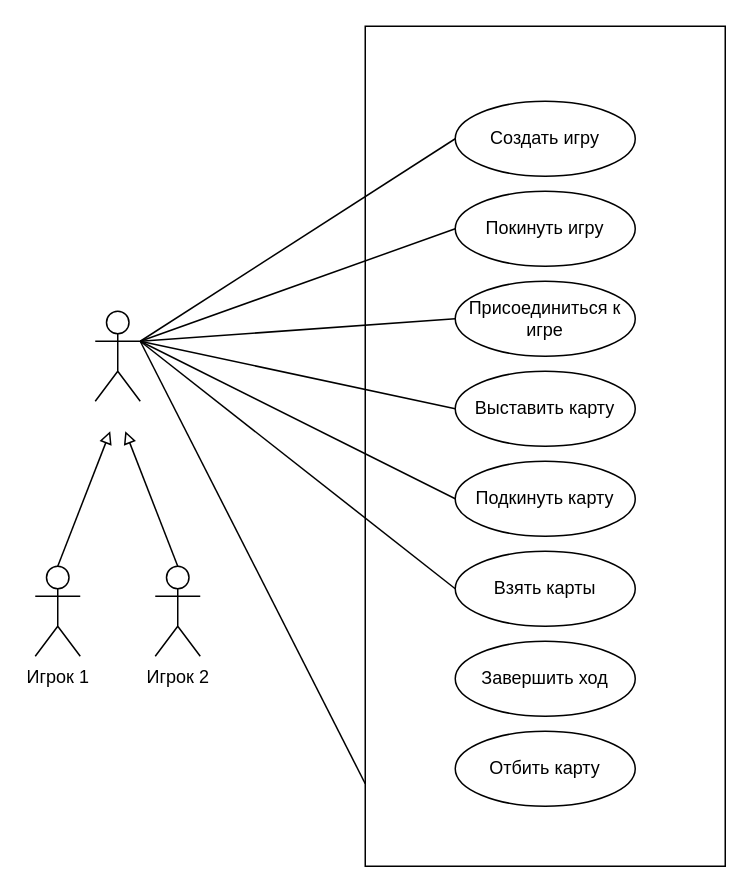
The diagram is 752 pixels wide and 893 high, and some of its shapes have lost their labels. The shapes that lost their labels are listed below. From the top down, each one's box as (x1, y1, x2, y2) in pixels, then its label:
(94, 310, 140, 401): Игрок
(364, 25, 725, 866): Игра в дурака
